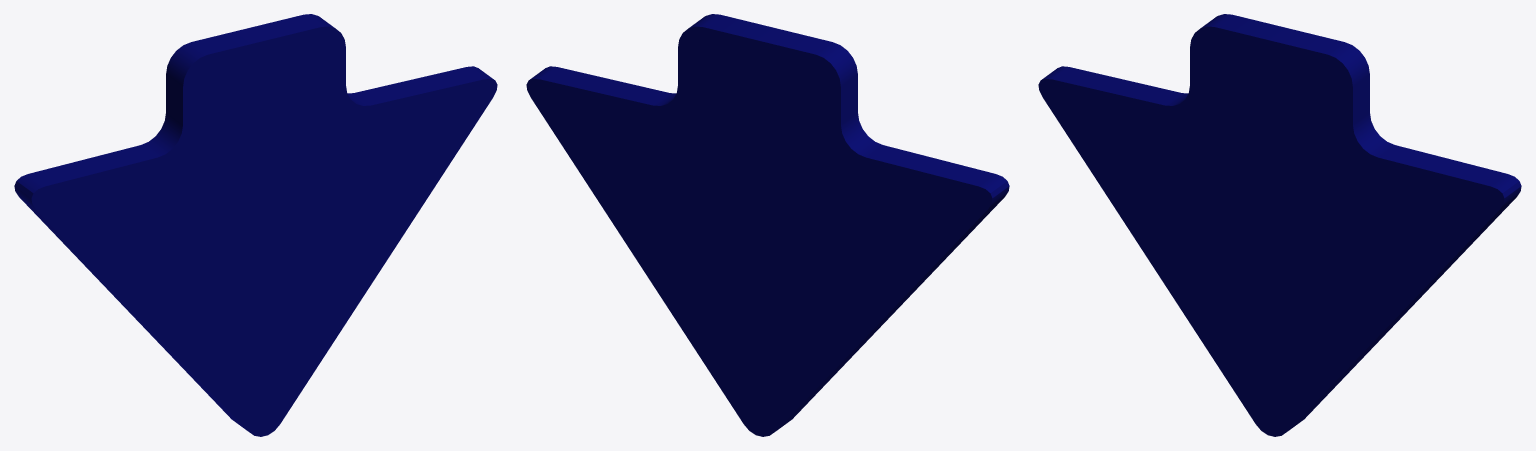
File: StairsArrow.fbx
3 renders of one model, left to right at view 1: azimuth 30°, elevation 25°; view 2: azimuth 150°, elevation 25°; view 3: azimuth 330°, elevation 25°, orthographic.
Visible parts, largest first — view 1: Plane; view 2: Plane; view 3: Plane.
Part boxes in pixels (x1=…): Plane: x1=14, y1=14, x2=497, y2=436; Plane: x1=526, y1=14, x2=1009, y2=436; Plane: x1=1038, y1=14, x2=1521, y2=436.
Size of the model in its own units: 191 by 155 by 12.09.
